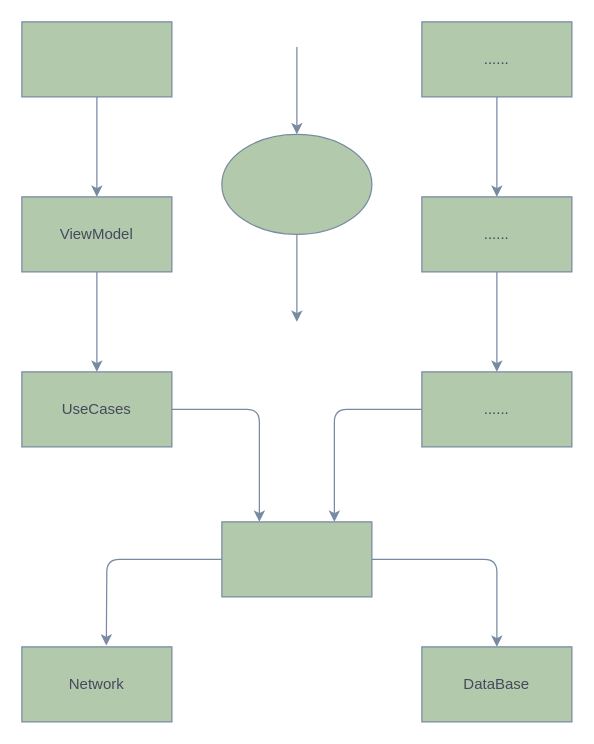
The diagram is 594 pixels wide and 744 high, and some of its shapes have lost their labels. The centre of each missing label's shape, as x and y in pixels:
Activity/Fragment: point (96, 59)
Dependency rule: point (296, 183)
Reposity: point (296, 559)
